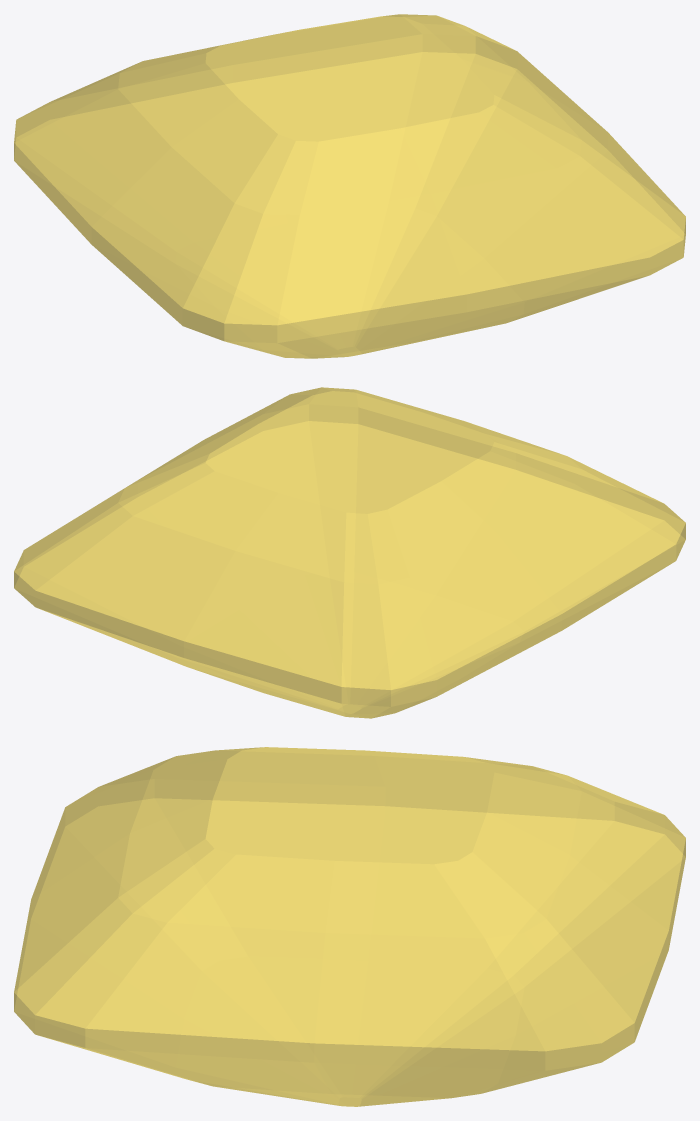
File: stone-fancy-color-diamond.glb
3 renders of one model, top to bottom at view 1: azimuth 30°, elevation 25°; view 2: azimuth 150°, elevation 25°; view 3: azimuth 270°, elevation 25°, orthographic. The views are drawn at different scales.
Visible parts, largest first — view 1: Sculpture; view 2: Sculpture; view 3: Sculpture.
Boxes of the visible parts, x1,y1,x2,y2 form: Sculpture: [14, 14, 685, 358]; Sculpture: [14, 387, 685, 718]; Sculpture: [14, 747, 685, 1106].
Size of the model in its own units: 2.11 by 1.07 by 2.2.
